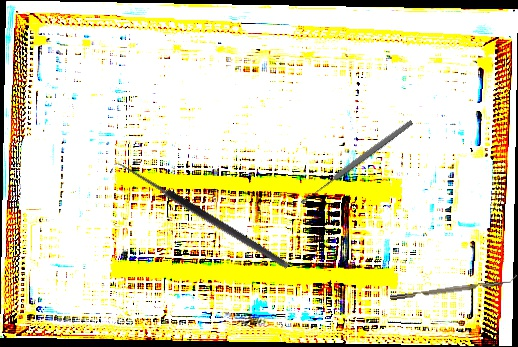Chopper: (389, 273, 518, 301)
Hook Surgical: (108, 158, 291, 278)
Surgical Spoon: (298, 118, 415, 206)
